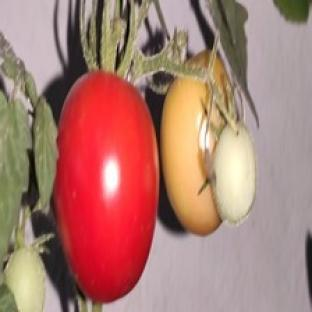Tomato: (55, 72, 158, 302), (161, 78, 221, 235), (214, 123, 256, 224), (5, 247, 45, 311)
